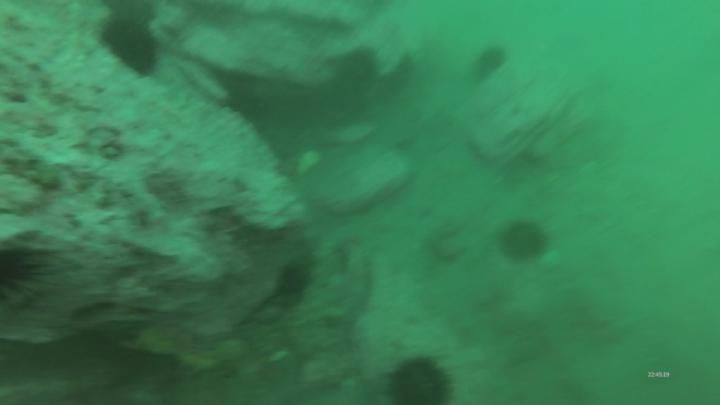echinus: (2, 248, 54, 320), (98, 23, 160, 80), (385, 354, 451, 405), (498, 216, 554, 265), (329, 48, 381, 99), (273, 260, 317, 300), (104, 1, 162, 27), (474, 45, 509, 83)
